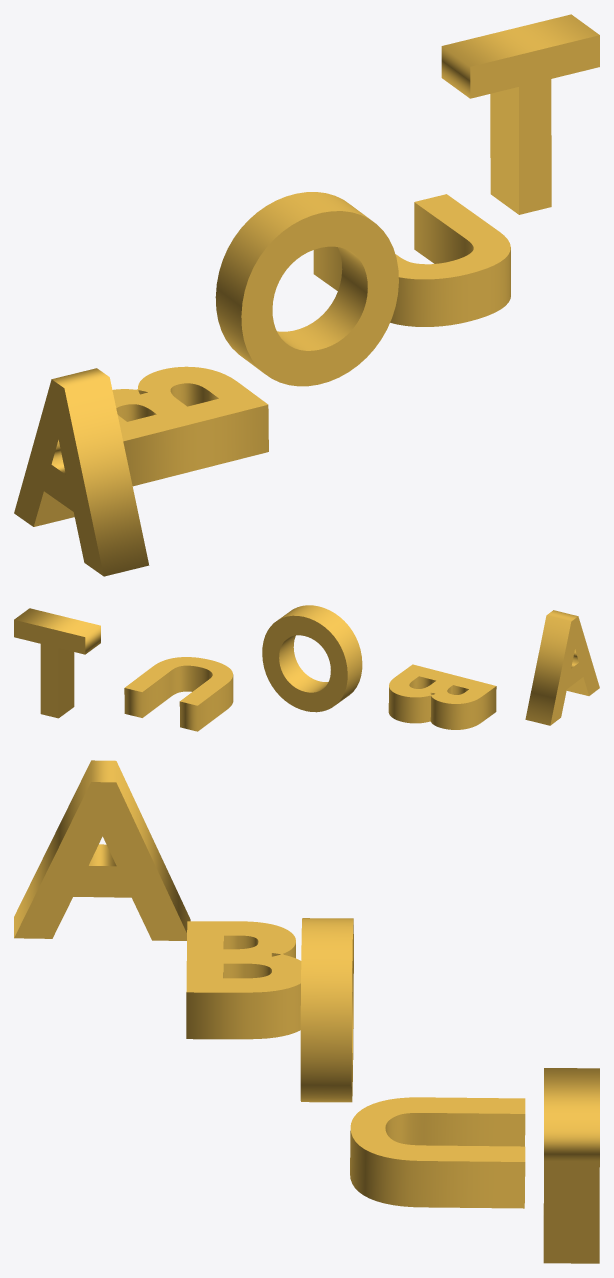
Rendered from aboutfont.glb.
3 views of the same model, one above another, from view 1: azimuth 30°, elevation 25°; view 2: azimuth 150°, elevation 25°; view 3: azimuth 270°, elevation 25° (orthographic). The views are drawn at different scales.
Visible parts, largest first — view 1: Text.002, Text, Text.004, Text.001, Text.003; view 2: Text.002, Text.003, Text.001, Text, Text.004; view 3: Text.003, Text, Text.001, Text.004, Text.002.
Boxes of the visible parts, bbox=[...] form: Text.002: bbox=[215, 192, 398, 386]; Text: bbox=[14, 368, 149, 576]; Text.004: bbox=[441, 14, 599, 214]; Text.001: bbox=[112, 366, 268, 486]; Text.003: bbox=[313, 194, 510, 326]; Text.002: bbox=[262, 605, 362, 712]; Text.003: bbox=[124, 657, 233, 731]; Text.001: bbox=[388, 664, 496, 729]; Text: bbox=[525, 610, 599, 725]; Text.004: bbox=[14, 608, 100, 718]; Text.003: bbox=[350, 1097, 525, 1208]; Text: bbox=[14, 760, 190, 940]; Text.001: bbox=[186, 921, 301, 1039]; Text.004: bbox=[543, 1068, 599, 1263]; Text.002: bbox=[300, 918, 353, 1102].
Bounding box in the file's own units: 3.72 × 0.7936 × 2.52.
